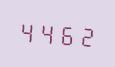four: (18, 17, 36, 45), (37, 18, 55, 46)
six: (56, 19, 74, 48)
two: (75, 21, 93, 49)
